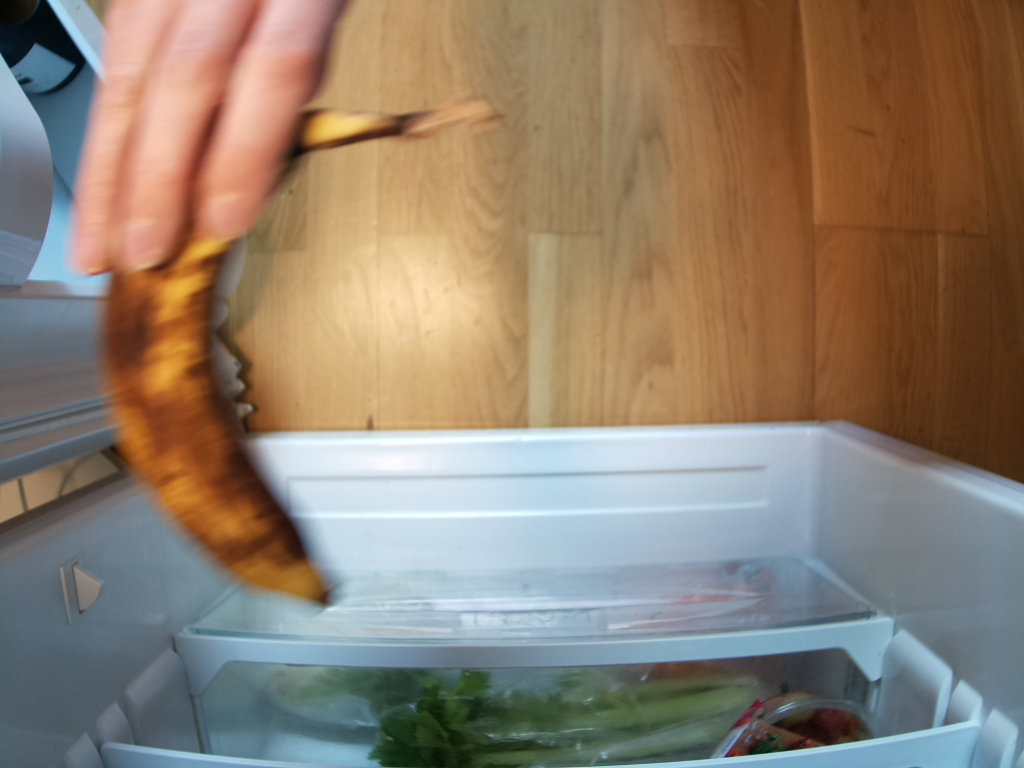banana-overripe: (94, 96, 501, 610)
